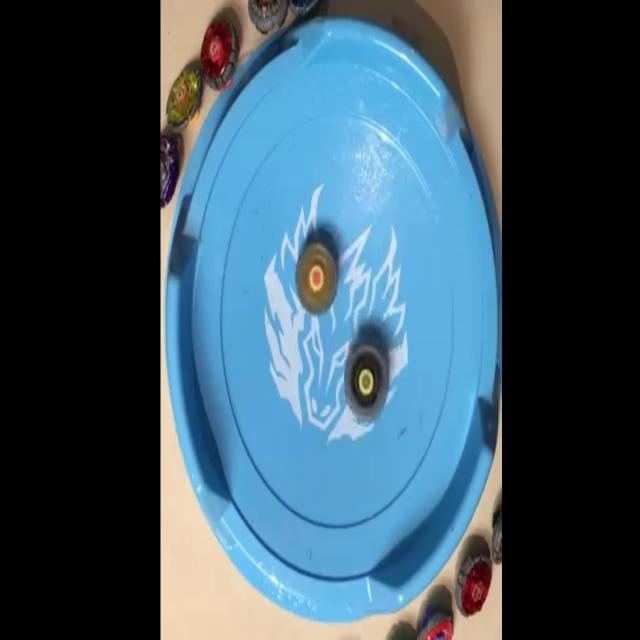Beyblade: (344, 343, 387, 422), (296, 242, 337, 316), (201, 18, 238, 92), (457, 552, 492, 620), (166, 66, 202, 132)
